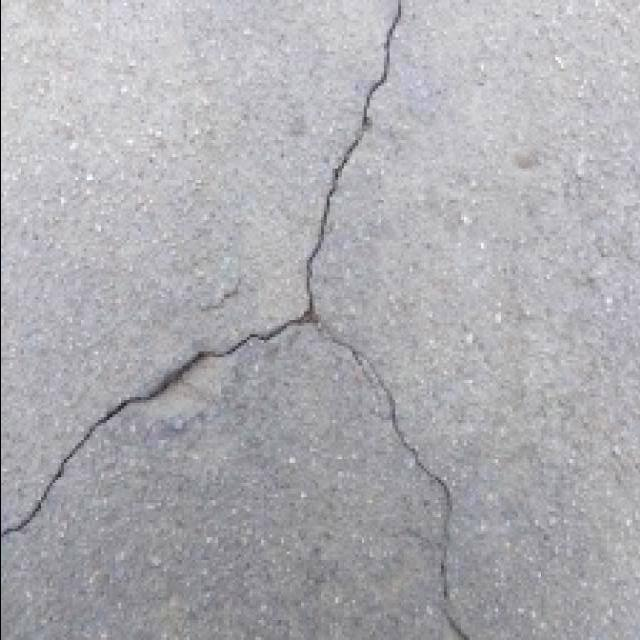SurfaceCrack: (16, 0, 496, 638)
